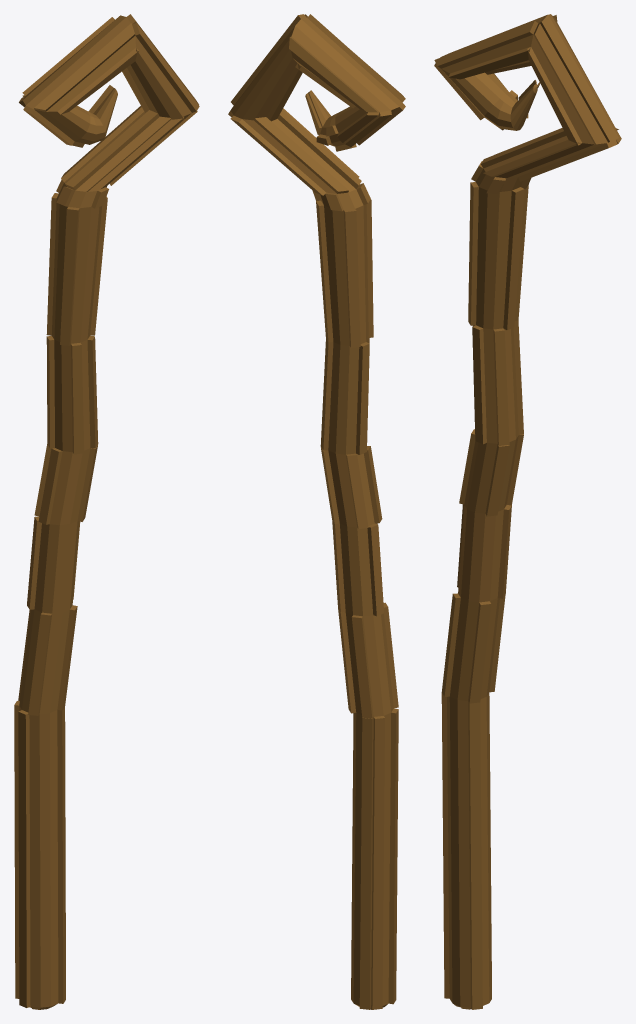
File: weapon_staff_wood.fbx
The picture shows the model from 3 angles, left to right: view 1: azimuth 30°, elevation 25°; view 2: azimuth 150°, elevation 25°; view 3: azimuth 330°, elevation 25°; orthographic projection. The views are drawn at different scales.
Parts seen in each view (by area): view 1: weapon_staff_wood; view 2: weapon_staff_wood; view 3: weapon_staff_wood.
Boxes of the visible parts, x1,y1,x2,y2 form: weapon_staff_wood: (14, 14, 199, 1009); weapon_staff_wood: (228, 14, 405, 1009); weapon_staff_wood: (434, 14, 621, 1009).
Bounding box in the file's own units: 27.26 × 147 × 9.22.
